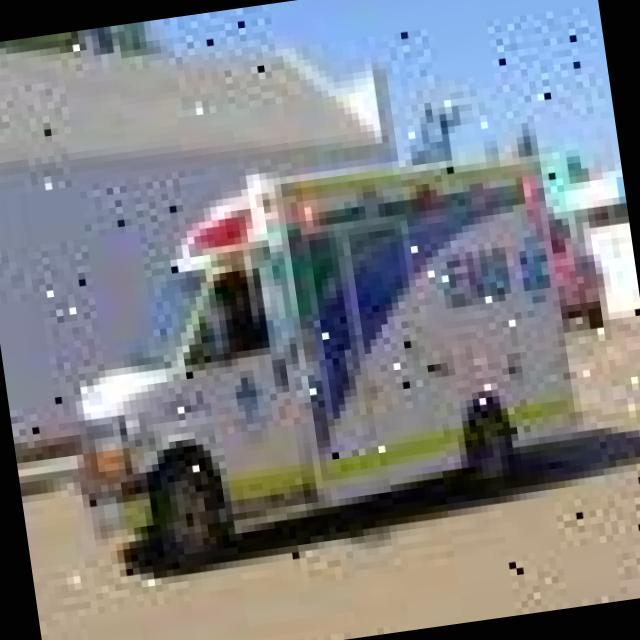emergency-vehicle: (39, 120, 626, 564)
